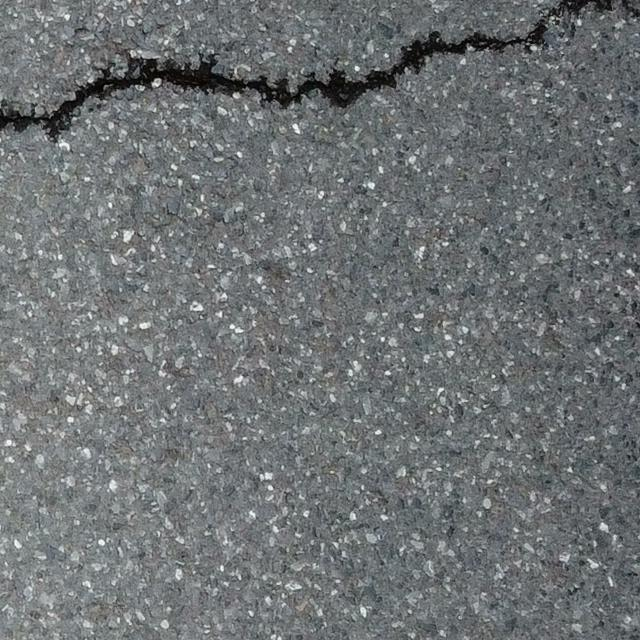TransverseCrack: (1, 1, 640, 141)
